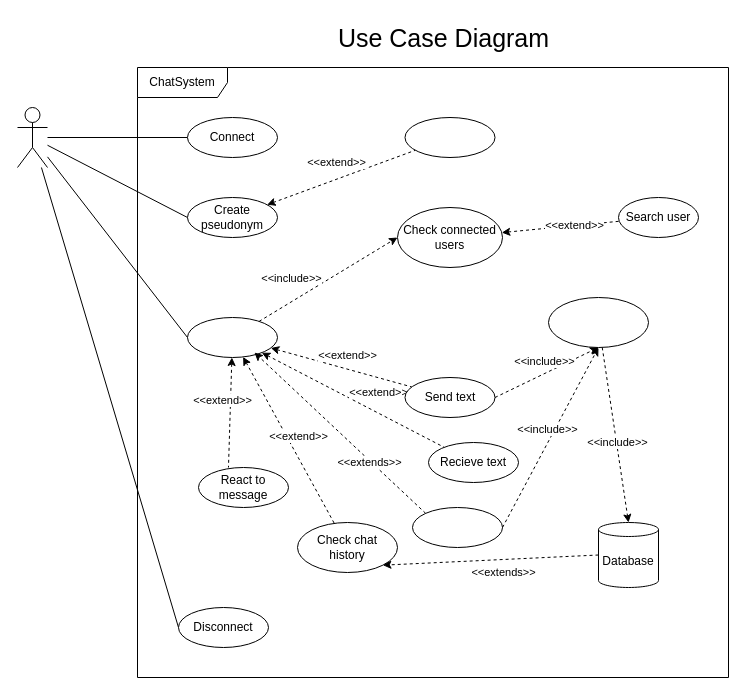
Image size: 746x695. Some labels were removed from this diagram. The shapes that lost their labels are listed below. From the top down, each one's centre as x and y in pixels, then its label:
the point at 32,137: User
the point at 449,137: Change pseudonym
the point at 232,337: Chat
the point at 598,322: Store Message
the point at 457,527: Send image
